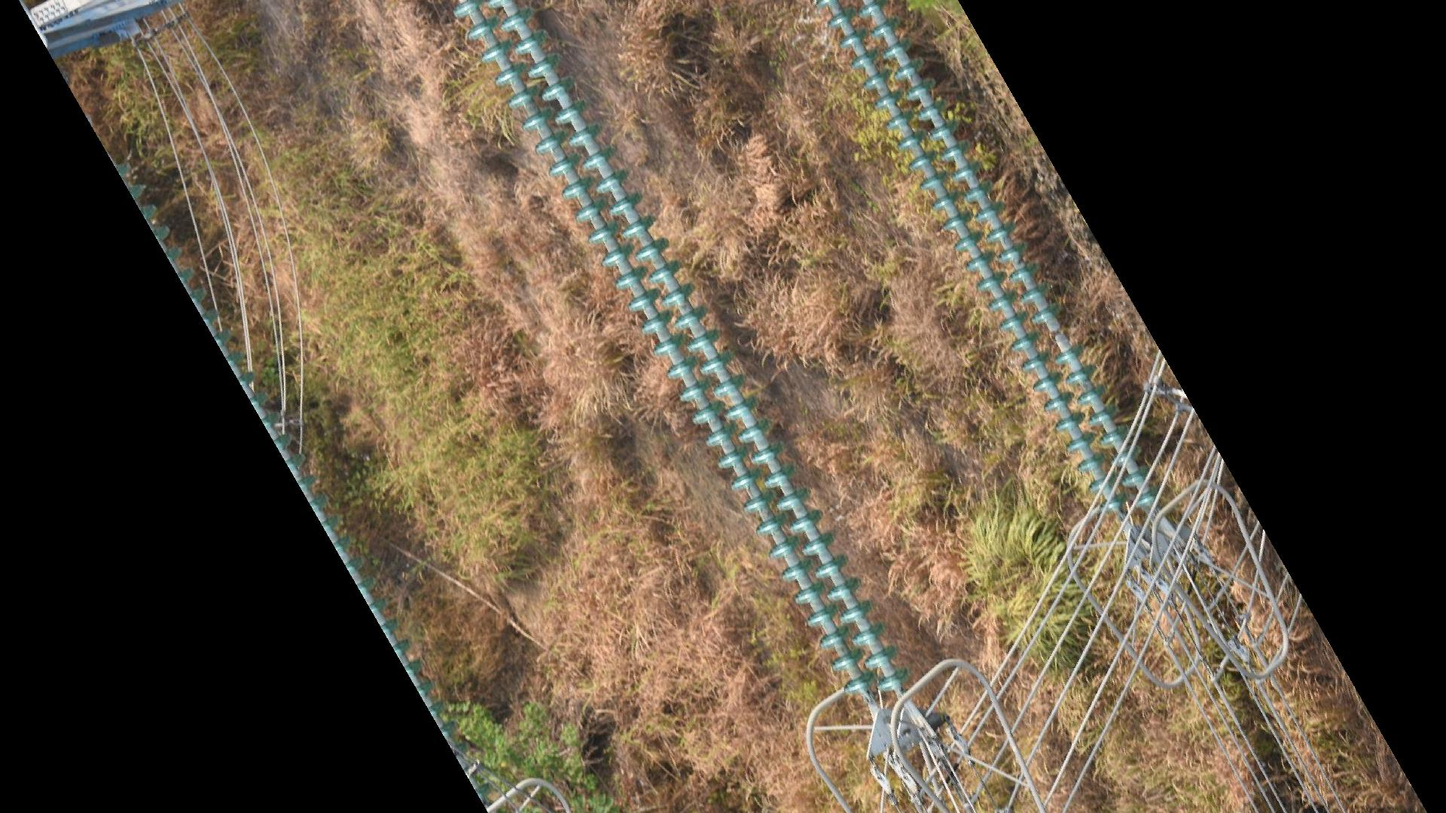insulator: (448, 1, 912, 704), (825, 1, 1167, 521)
insulator_stringdrop: (1029, 300, 1091, 368)
